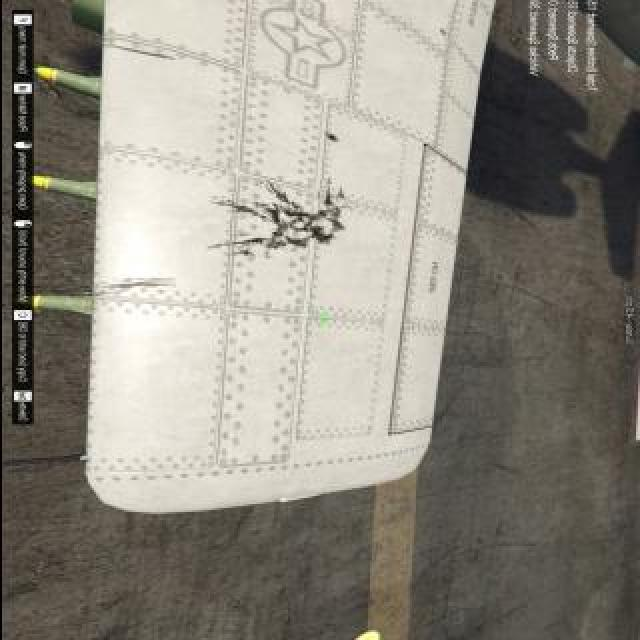crack: (323, 134, 343, 144), (438, 28, 450, 36)
dent: (280, 207, 342, 229), (251, 222, 302, 248), (211, 202, 267, 221), (103, 281, 170, 291), (253, 203, 280, 217), (307, 229, 330, 243)
